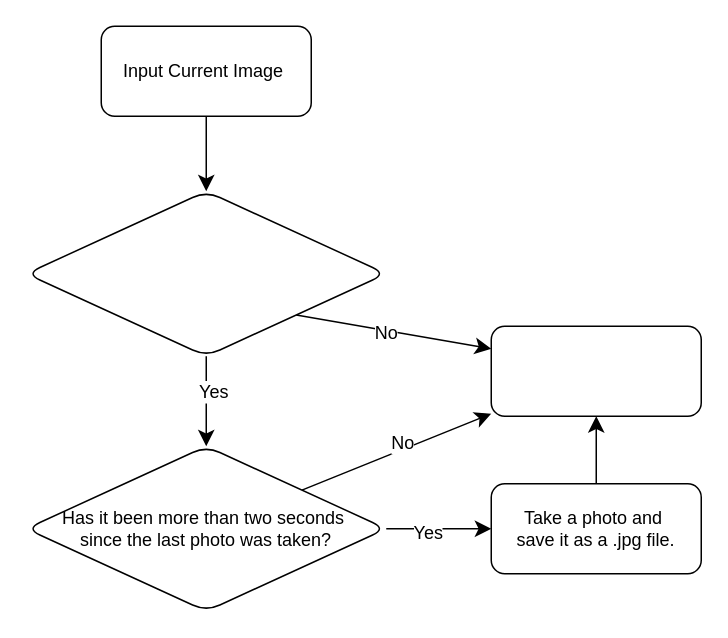
Some shapes in this 728 by 638 pixel diagram are drawn without their labels. The box of each missing label's shape, as (x1, y1, x2, y2) in pixels:
Has the pixel value changed by more than 4.95% compared to the previous frame?: (25, 190, 386, 356)
Store the current image as the previous image.: (490, 325, 701, 416)
